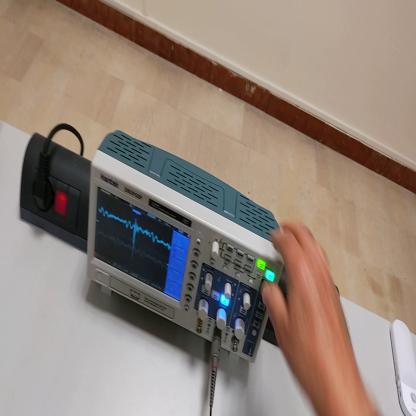hand: (263, 218, 363, 403)
oscilloscope: (86, 129, 283, 364)
socket: (16, 134, 93, 254)
